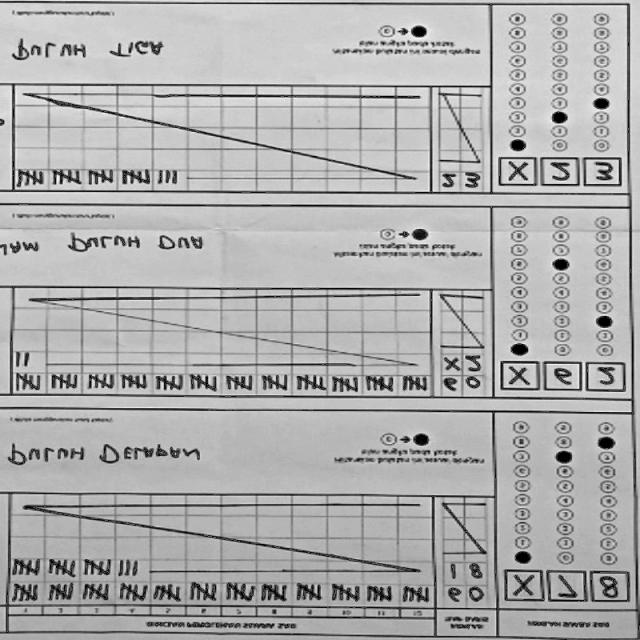Suara: (498, 359, 622, 393), (496, 161, 622, 191), (504, 572, 628, 602)
